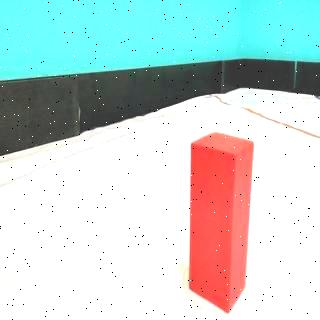redbox: (190, 133, 254, 314)
